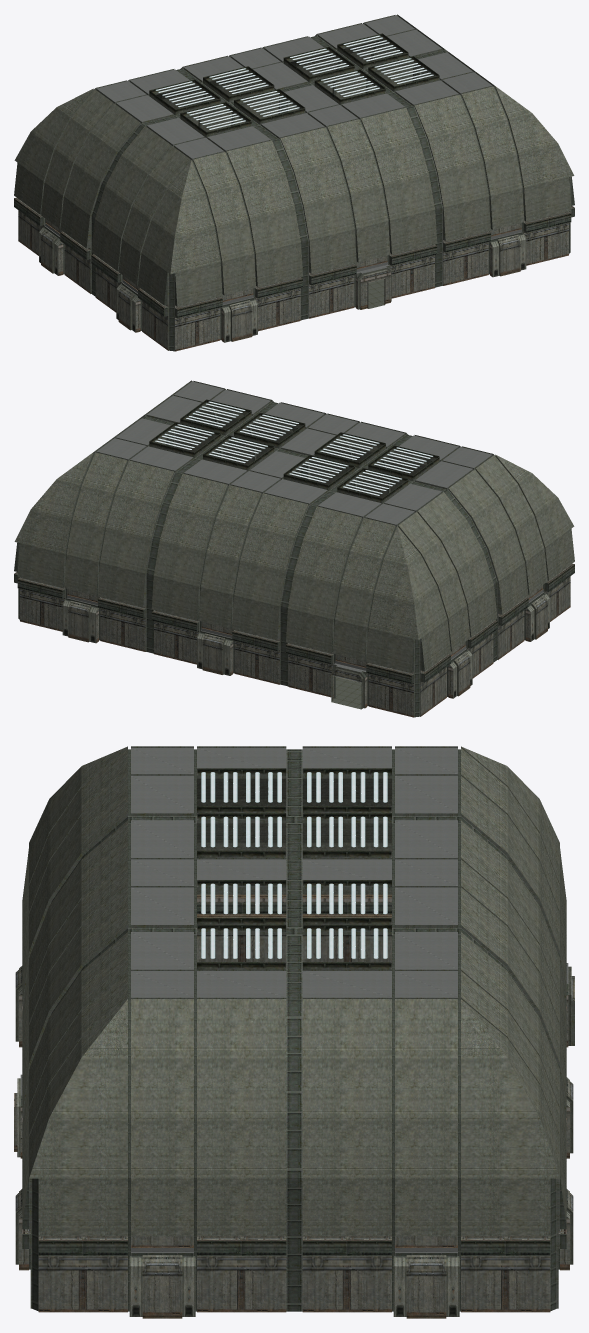
File: poi_all_impl_bunker_crimelord_retreat_s01_r25_masterroom_mesh_r25.fbx
The picture shows the model from 3 angles, top to bottom: view 1: azimuth 30°, elevation 25°; view 2: azimuth 150°, elevation 25°; view 3: azimuth 270°, elevation 25°; orthographic projection. The views are drawn at different scales.
Parts seen in each view (by area): view 1: mesh_node; view 2: mesh_node; view 3: mesh_node.
Part boxes in pixels (left/top/right/bottom): mesh_node: left=14, top=14, right=574, bottom=351; mesh_node: left=14, top=380, right=574, bottom=717; mesh_node: left=14, top=746, right=574, bottom=1318.
Size of the model in its own units: 49.8 by 18.7 by 34.
